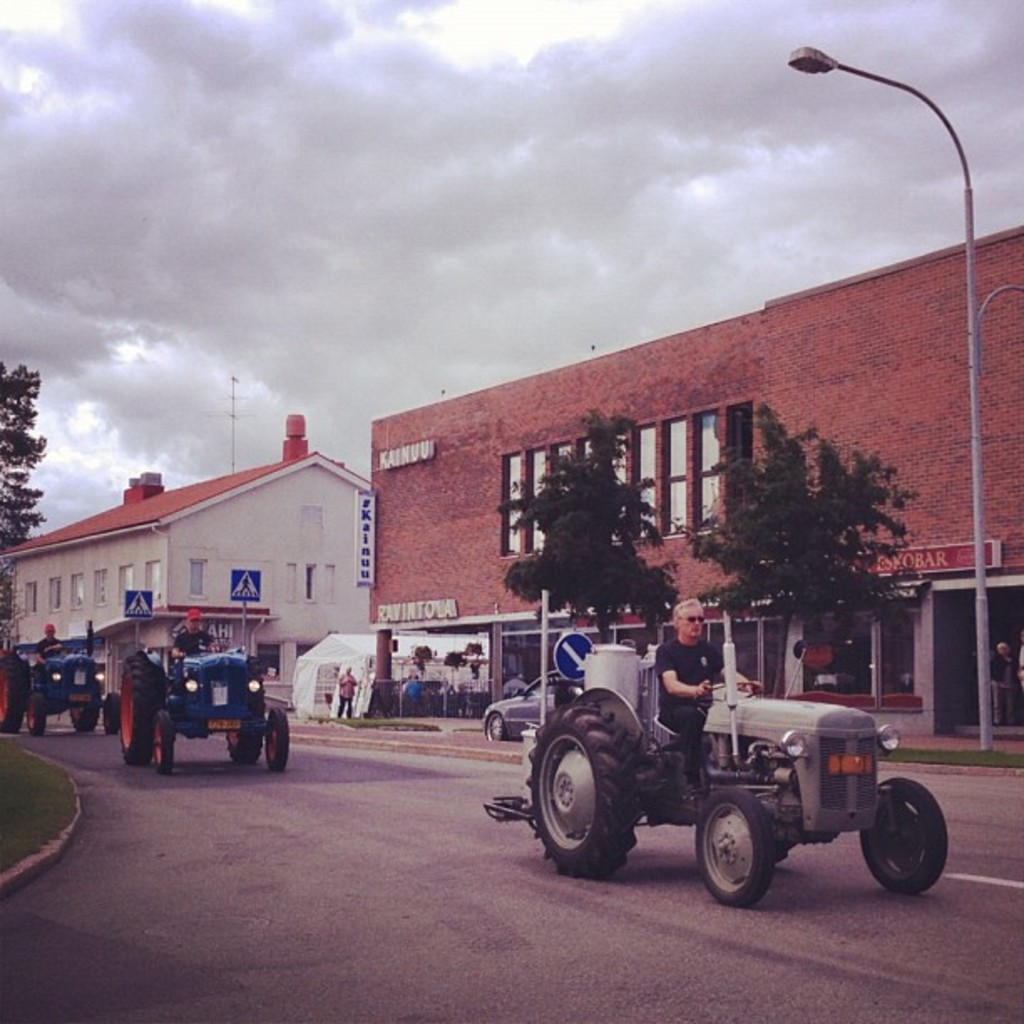cars: (485, 672, 555, 741)
